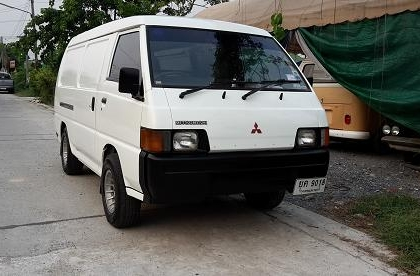van: (51, 14, 332, 229)
